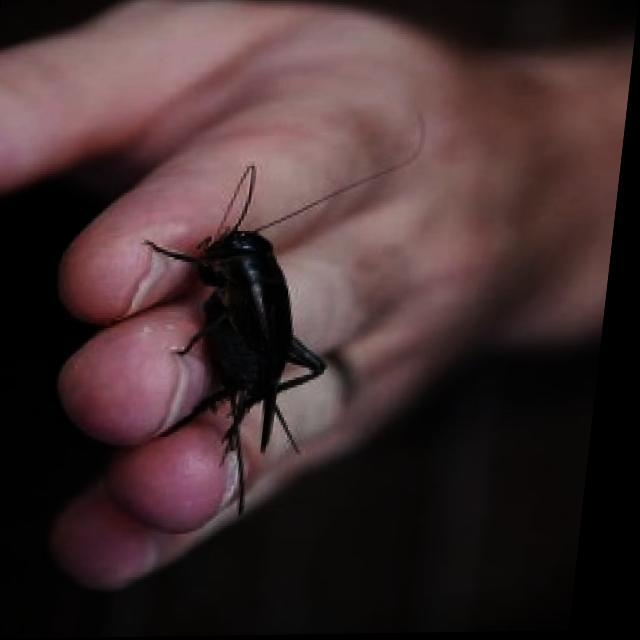cockroach: (123, 177, 365, 521)
